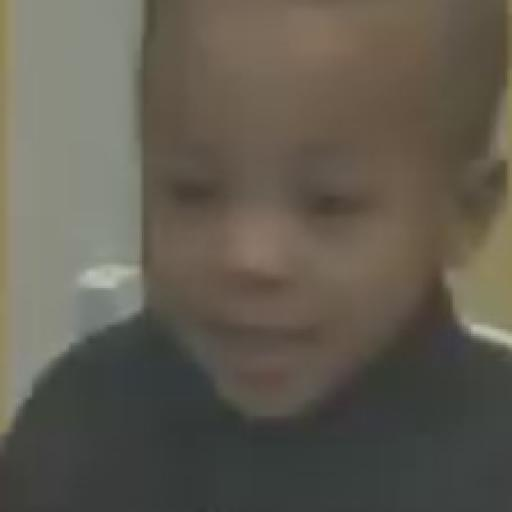Autism: (111, 2, 469, 462)
